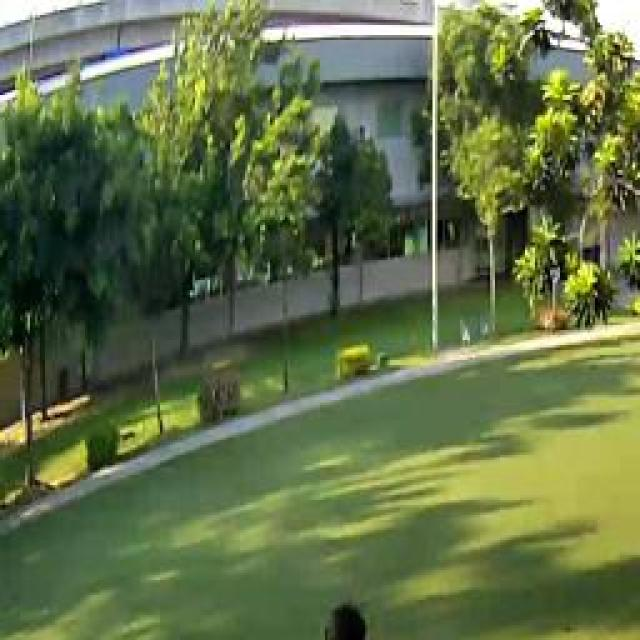Guns: (402, 637, 459, 640)
